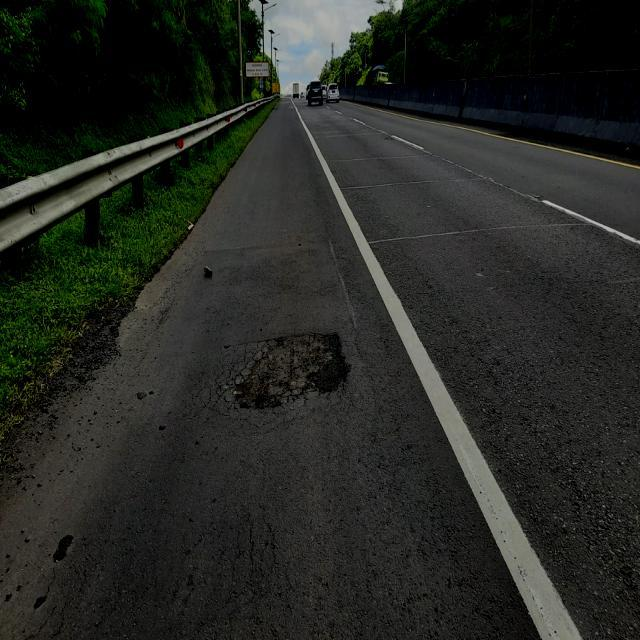Buraco: (228, 329, 356, 413)
